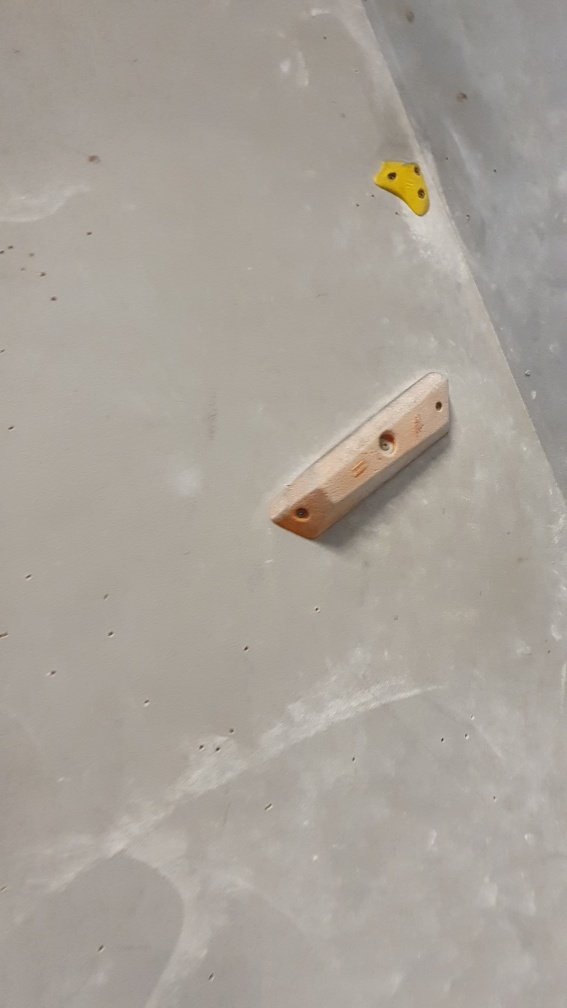Pinch: (263, 370, 460, 548)
